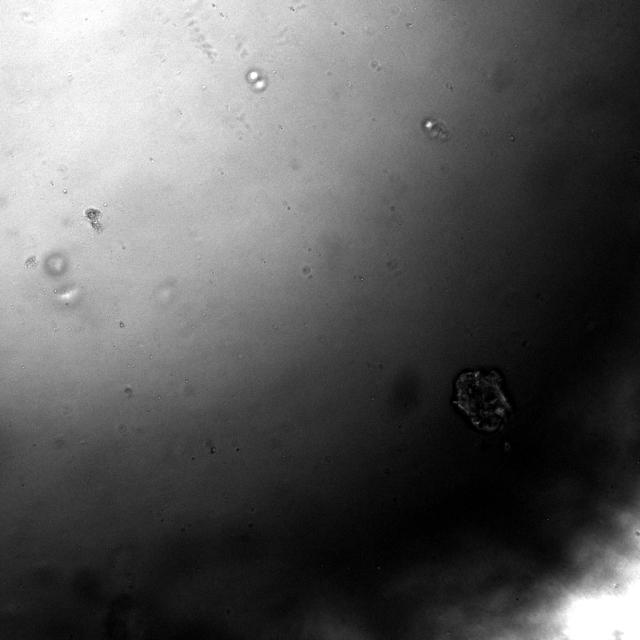organoid: (451, 368, 512, 435), (71, 208, 103, 247), (421, 116, 449, 142), (245, 68, 268, 93)
